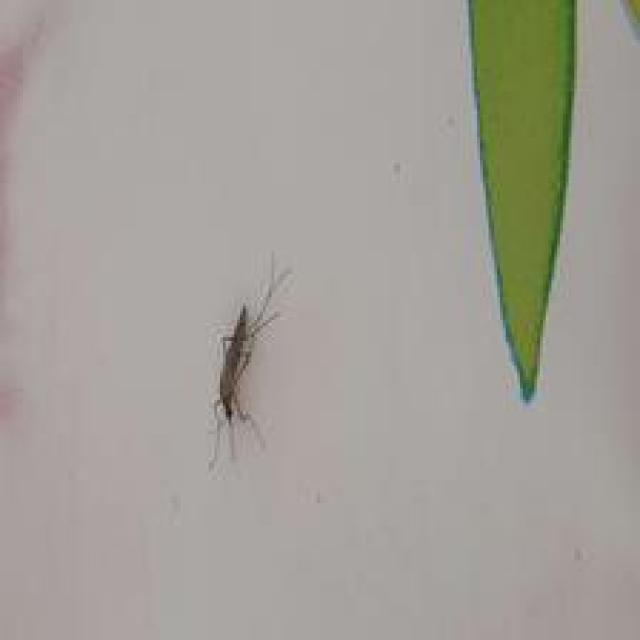Culex: (206, 253, 294, 470)
